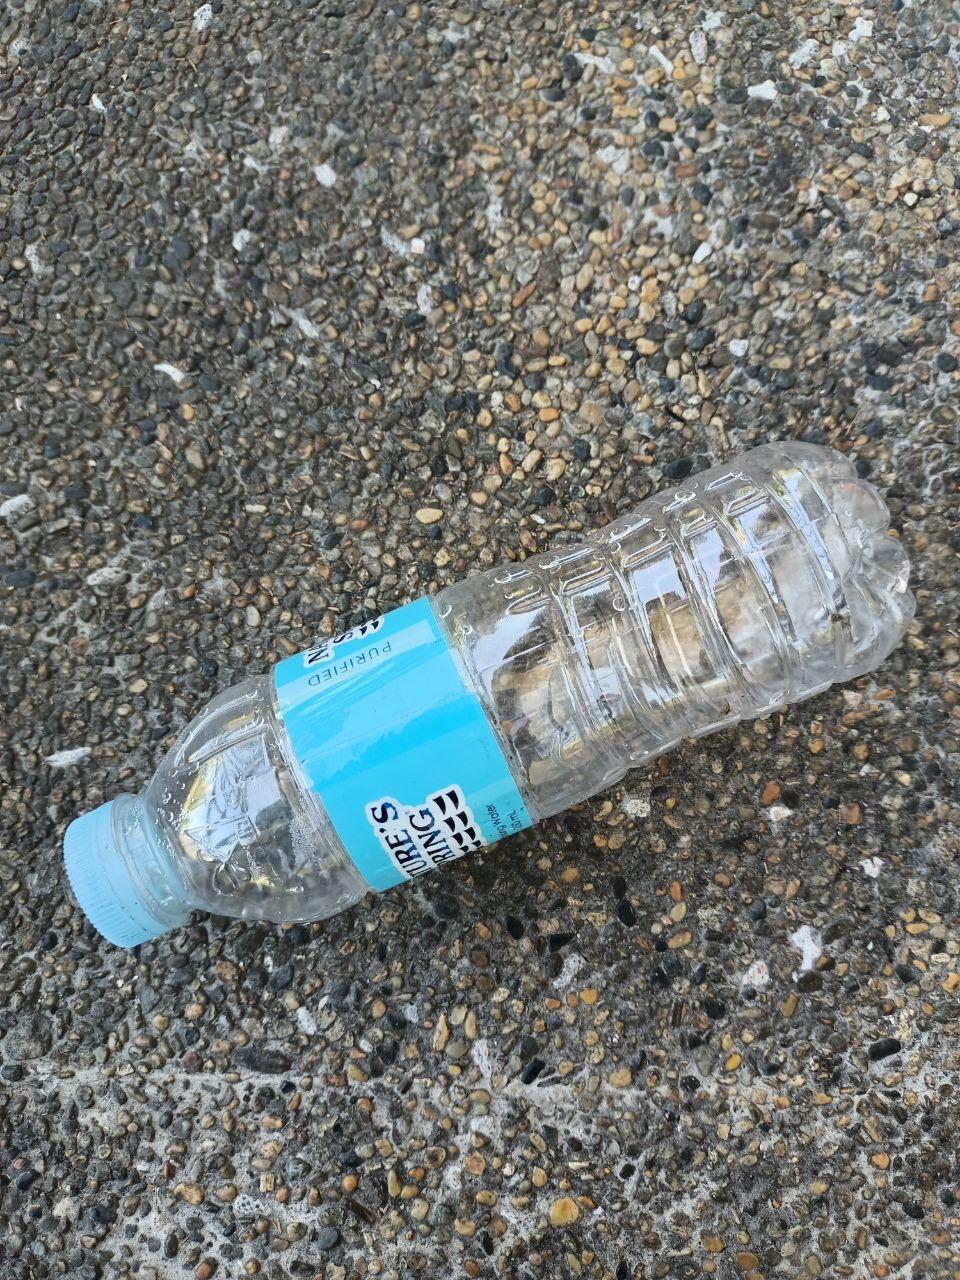plastic: (30, 420, 930, 999)
